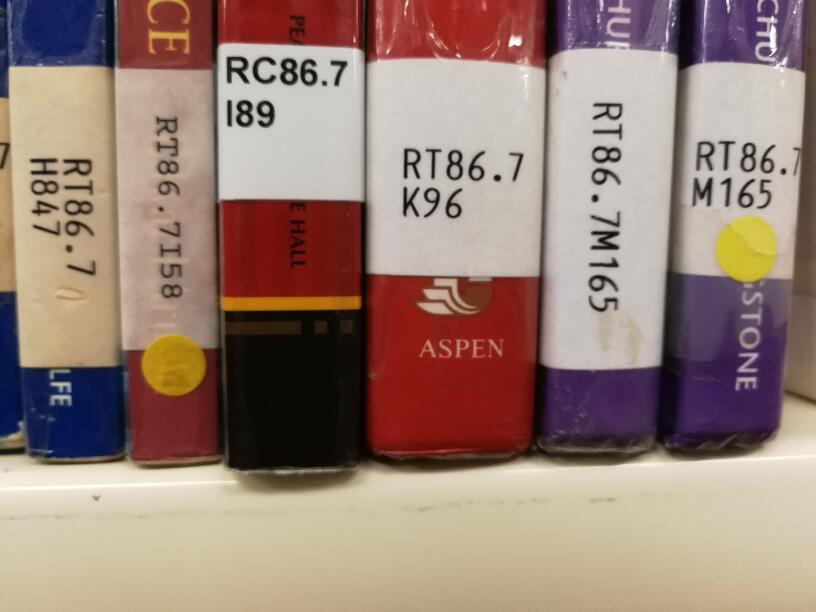booklabel: (398, 144, 525, 220), (223, 52, 347, 129), (27, 153, 99, 277), (586, 97, 624, 314), (690, 138, 803, 210), (151, 113, 185, 300)
